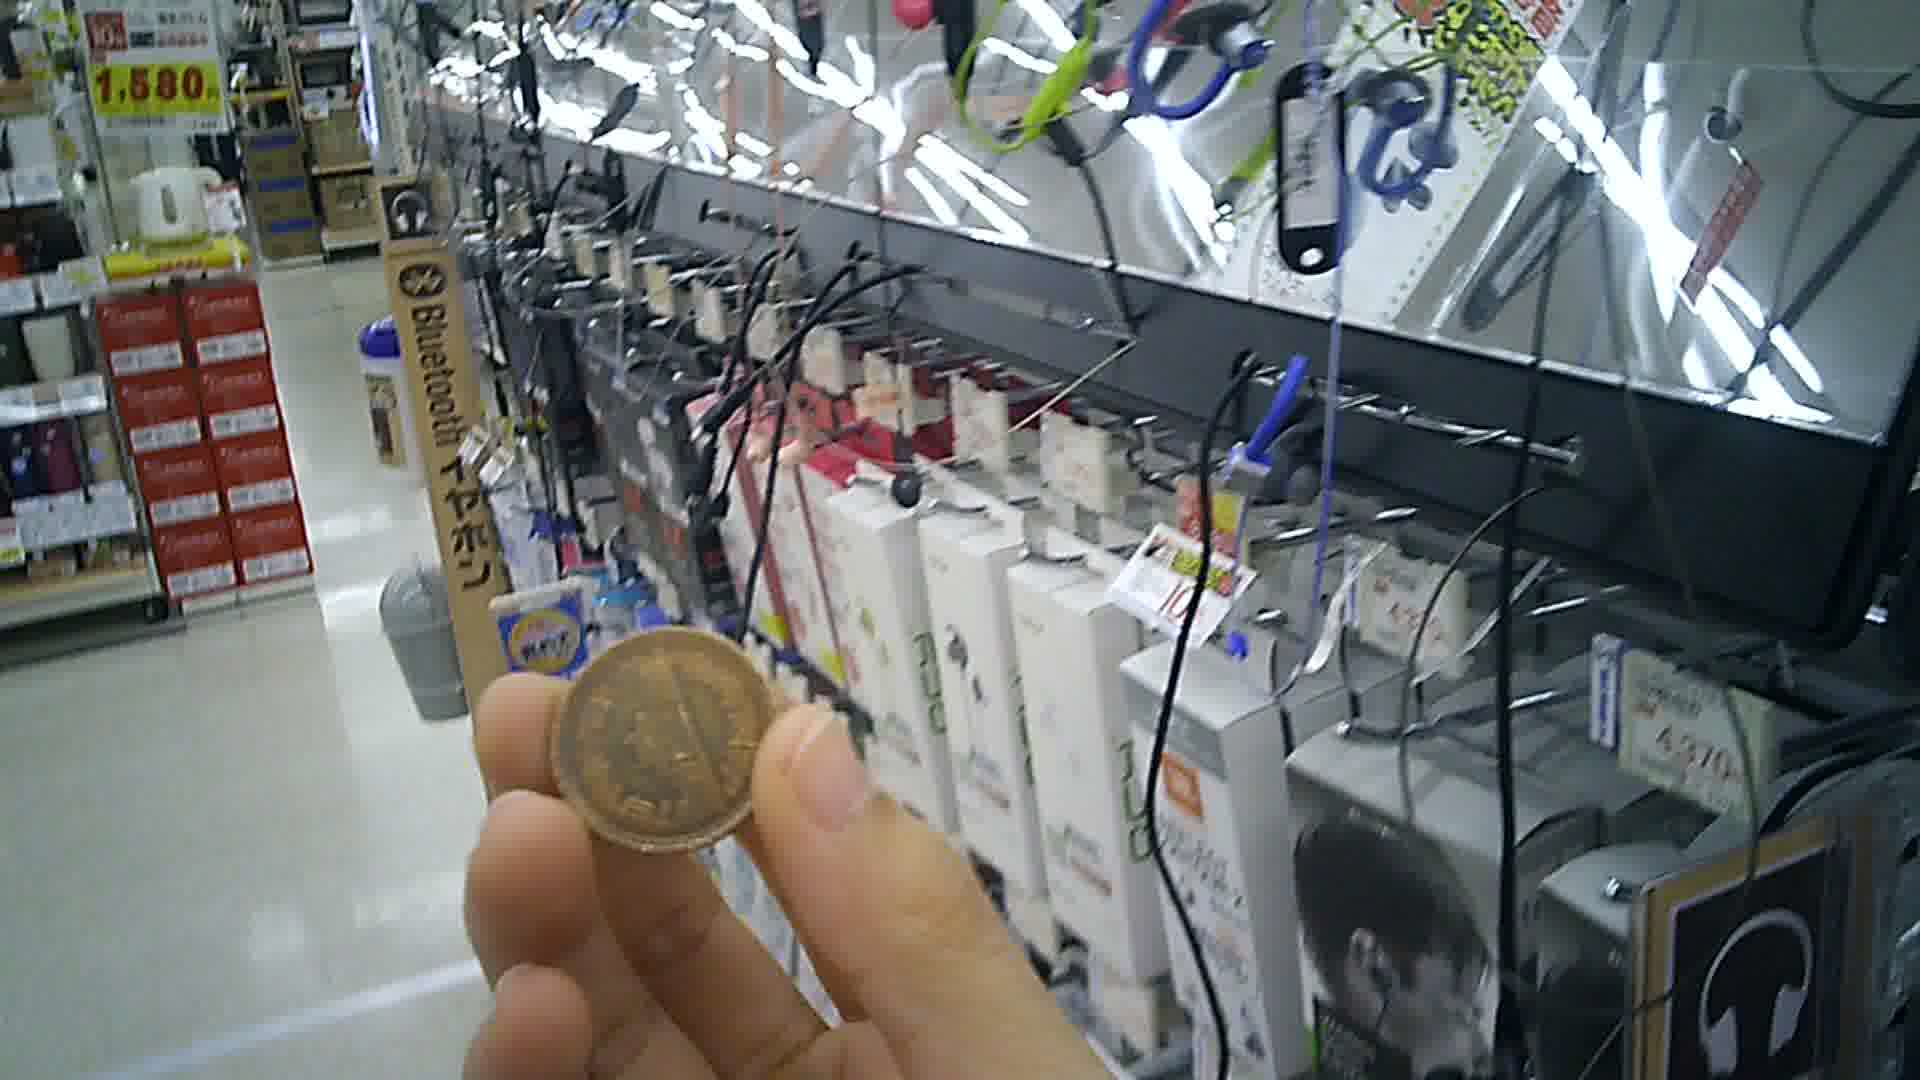10 Yen: (550, 624, 791, 845)
